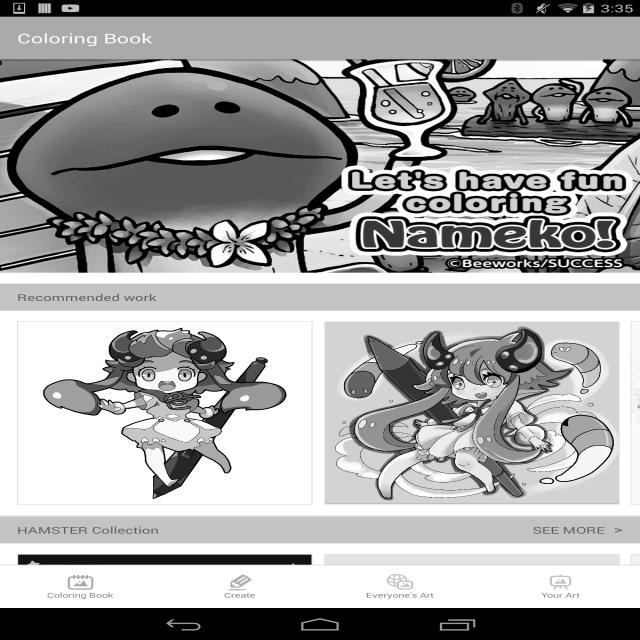Button: (520, 517, 618, 543)
ImageView: (0, 59, 640, 273), (18, 322, 312, 505), (325, 322, 619, 505), (18, 554, 311, 640), (325, 554, 618, 640), (631, 322, 640, 505), (631, 554, 639, 640), (67, 574, 93, 590), (227, 574, 253, 590), (387, 574, 413, 590), (547, 574, 573, 590), (0, 565, 640, 565)
TextView: (17, 29, 152, 47), (17, 291, 156, 304), (17, 524, 160, 536), (366, 590, 433, 600), (47, 590, 113, 600), (541, 590, 579, 600), (224, 590, 255, 600), (614, 522, 623, 537)
